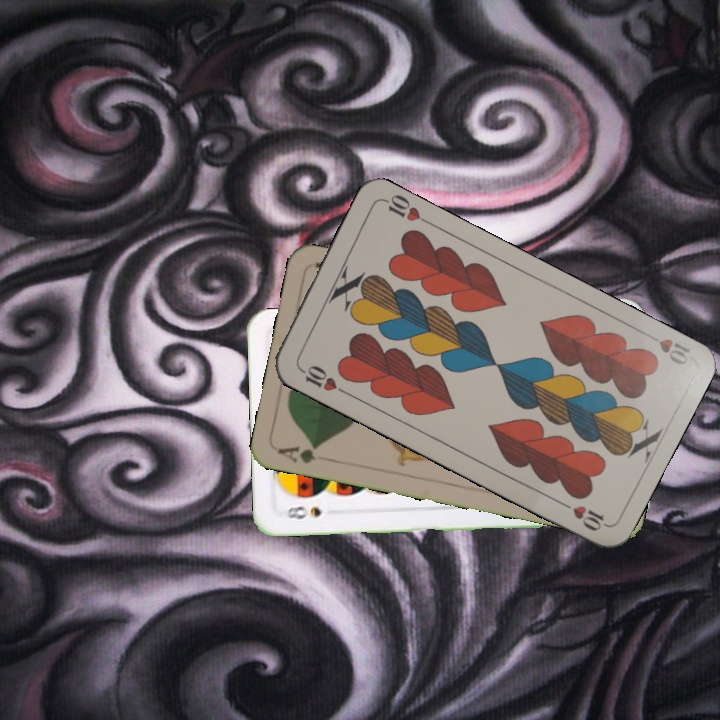GA: (274, 441, 321, 466)
H10: (639, 327, 693, 368), (294, 361, 349, 397)
S8: (283, 501, 325, 522)
